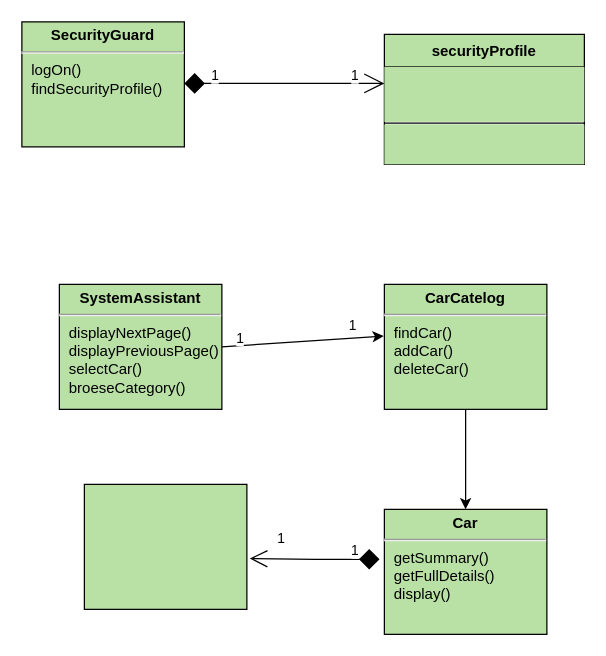
The diagram is 606 pixels wide and 656 high, and some of its shapes have lost their labels. The shapes that lost their labels are listed below. From the top down, each one's centre as x and y in pixels, then its label:
At (484,93): "userNo password".
At (484,144): "vaildatePassword()".
At (165,546): "CarDetails setNo() setTime()".
